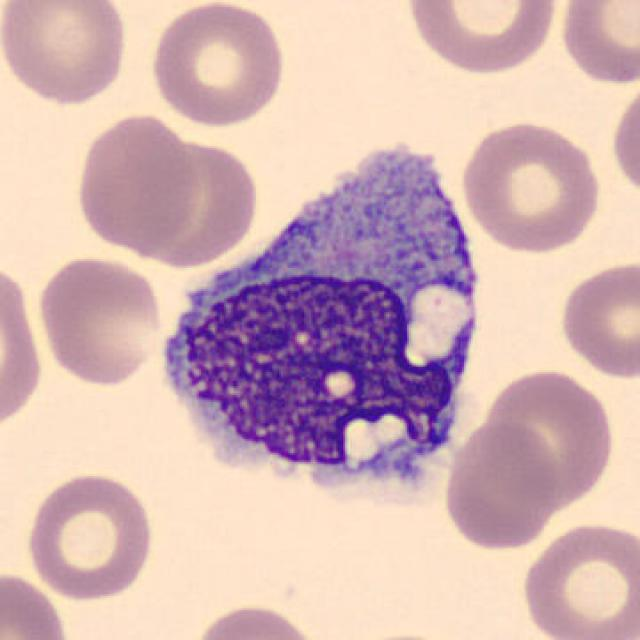Monocyte: (149, 127, 496, 518)
RBC: (458, 116, 604, 256), (480, 365, 617, 509), (71, 109, 203, 256), (34, 252, 169, 390), (146, 0, 288, 130), (22, 469, 158, 603), (441, 416, 562, 552), (518, 518, 638, 640), (0, 0, 132, 108), (402, 0, 562, 78), (555, 255, 638, 382), (0, 254, 46, 439), (555, 0, 638, 88), (186, 599, 324, 640), (0, 567, 73, 640), (608, 76, 640, 206)
